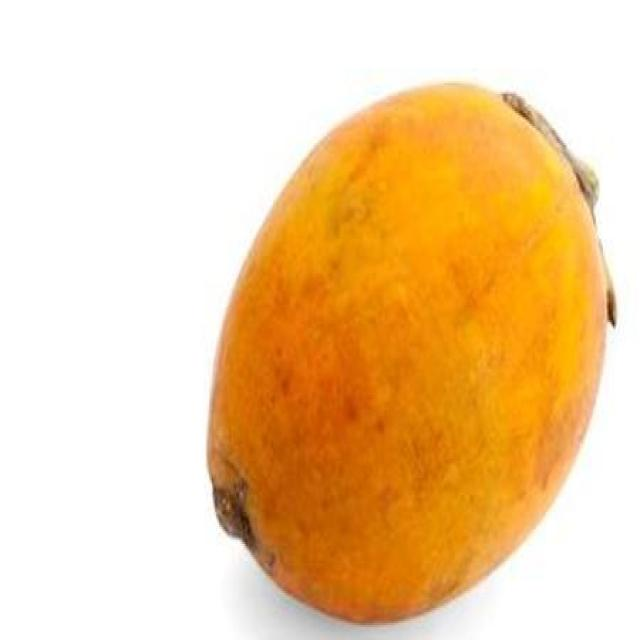good: (205, 81, 616, 625)
